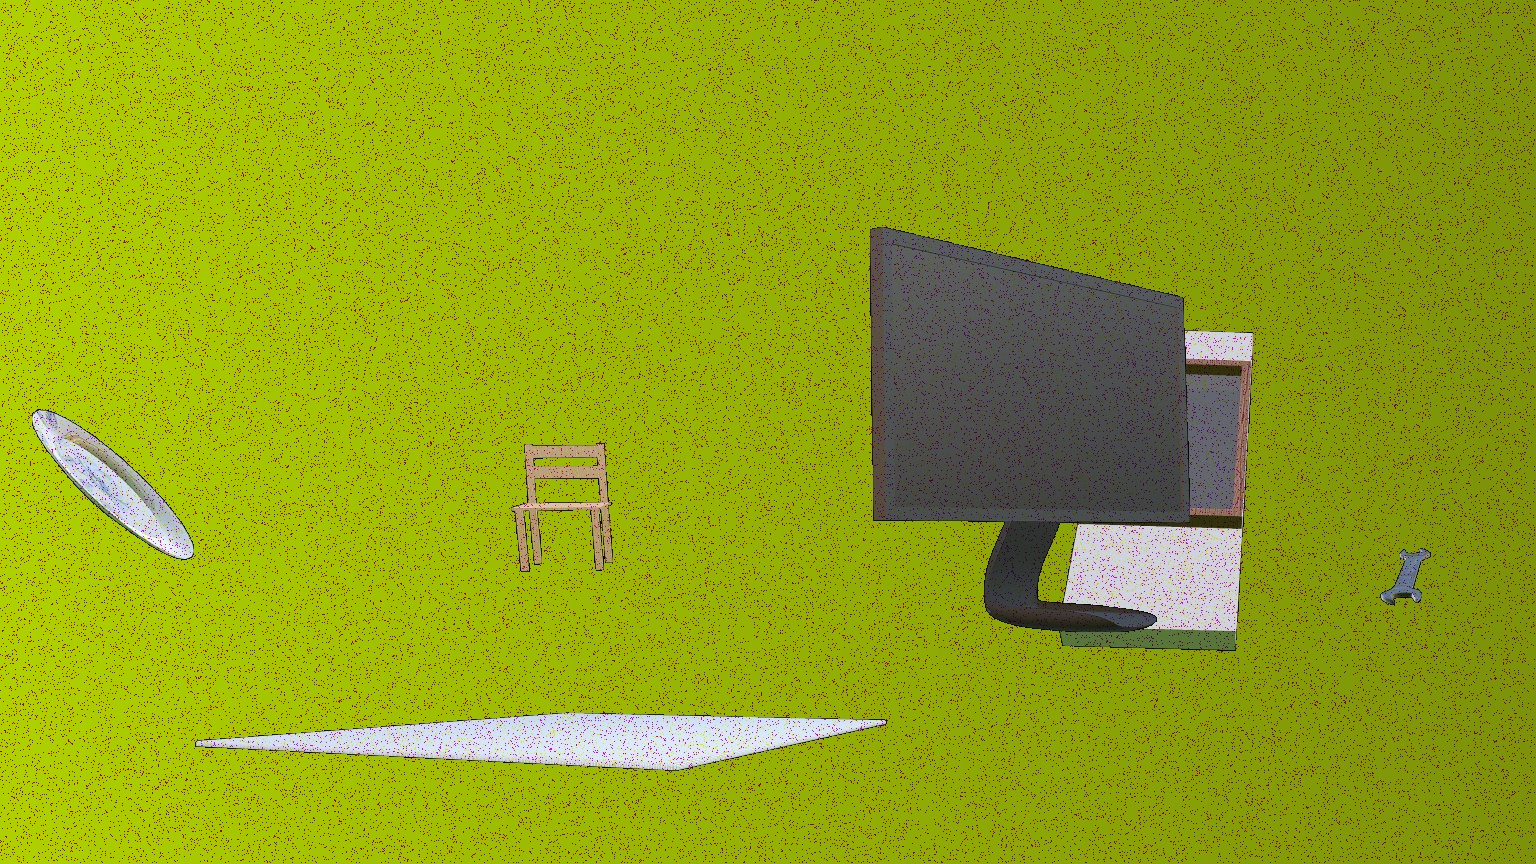alfombra: (195, 712, 887, 771)
llave: (1380, 548, 1431, 605)
monitor: (869, 226, 1191, 633)
plato: (31, 409, 195, 560)
silla: (510, 443, 614, 572)
